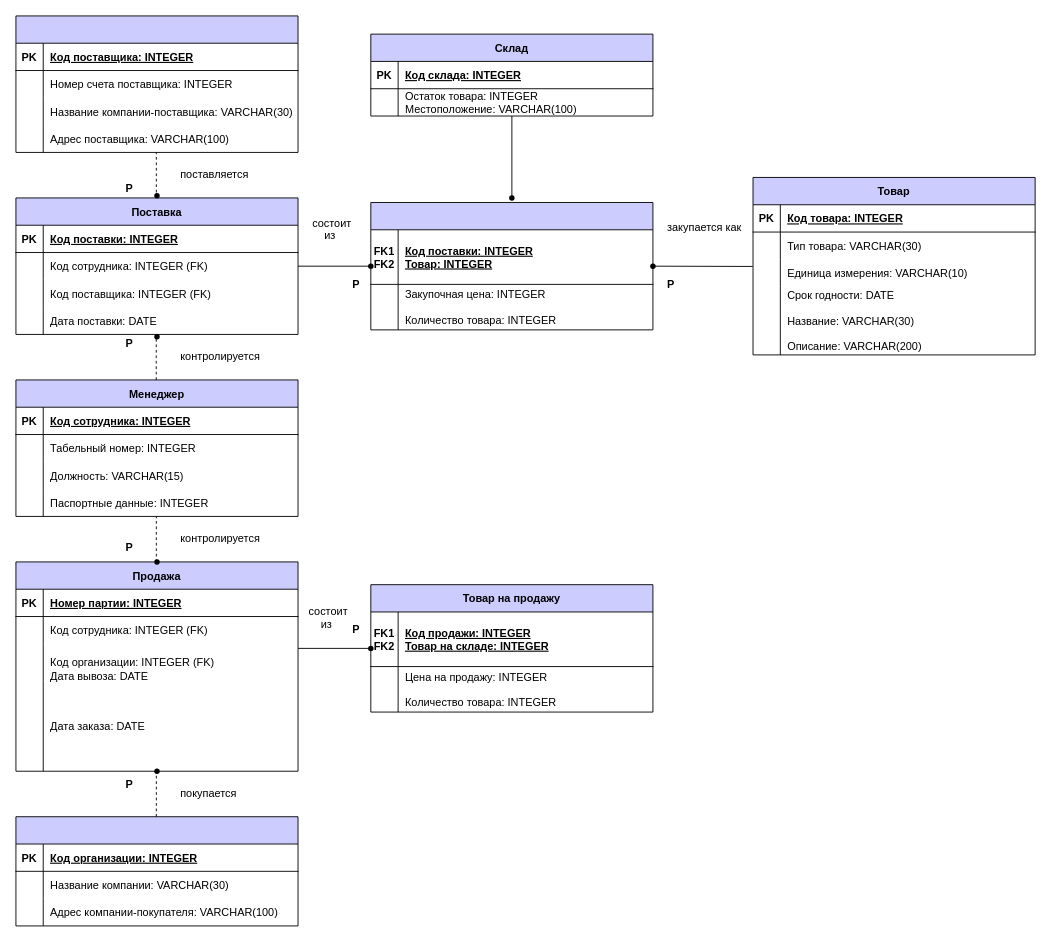
Some shapes in this 1051 by 942 pixel diagram are drawn without their labels. Each missing label, with the box of its shape:
Закупочный товар: (370, 202, 653, 330)
Компания-покупатель: (15, 816, 298, 926)
Компания-поставщик: (15, 15, 298, 152)
